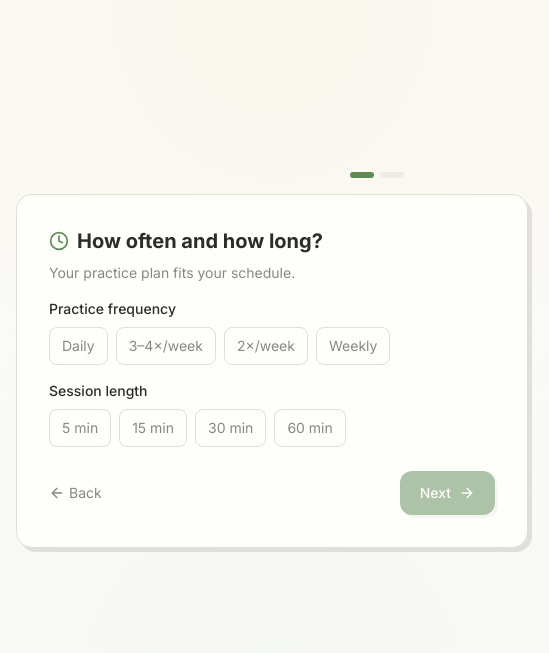
Test: EnhancedOnboarding skill assessment navigation › Stop and go back from the pitch assessment reaches the interval assessment
The image size is (549, 653).
Earlier steps of the test are not shown.
Click the button "Daily": (78, 346) [49, 327, 108, 365]
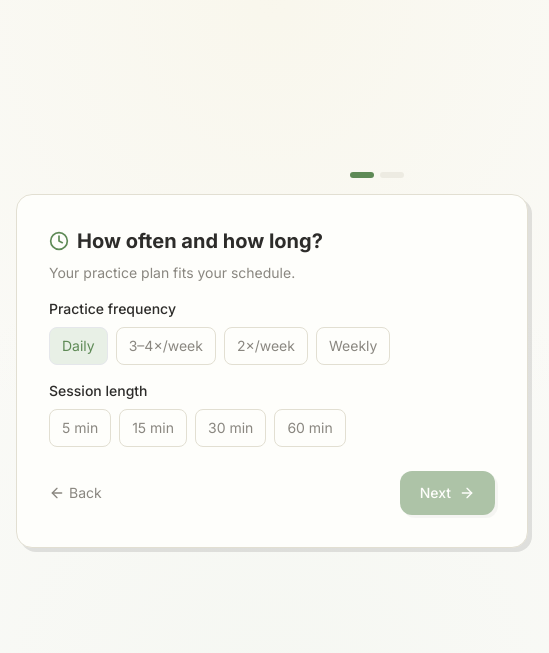
Click the button "15 min": (153, 428) [119, 409, 187, 447]
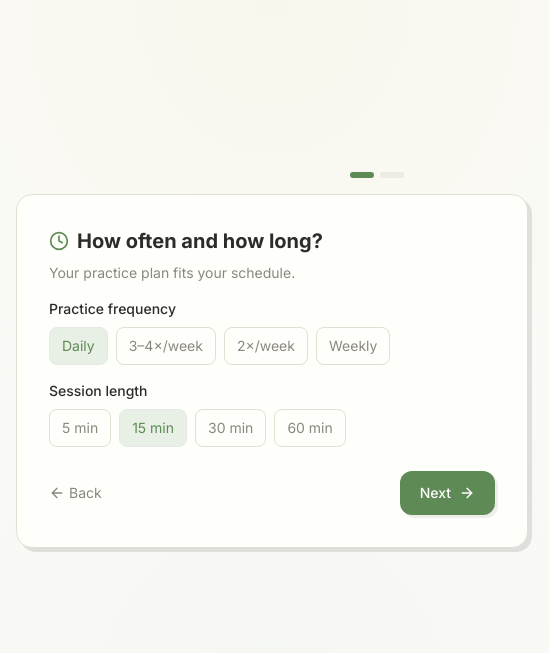
Click the button "Next": (447, 493) [400, 471, 495, 515]
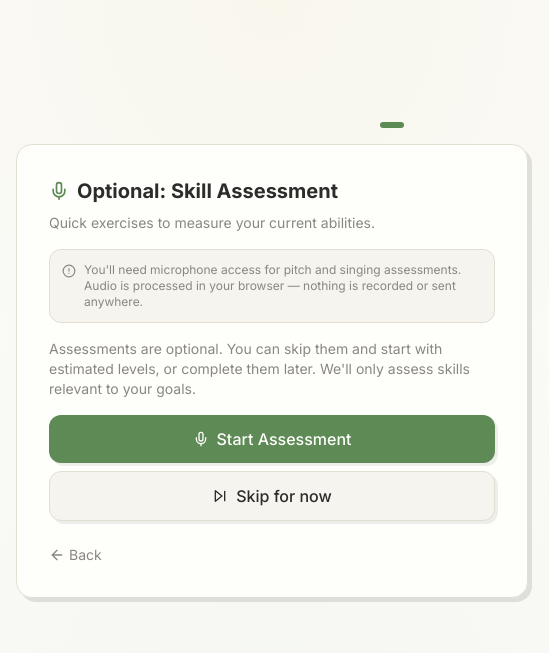
Now the heading "Optional: Skill Assessment" is shown, box [77, 177, 338, 205]
Click the button "Start Assessment": (272, 439) [49, 415, 495, 463]
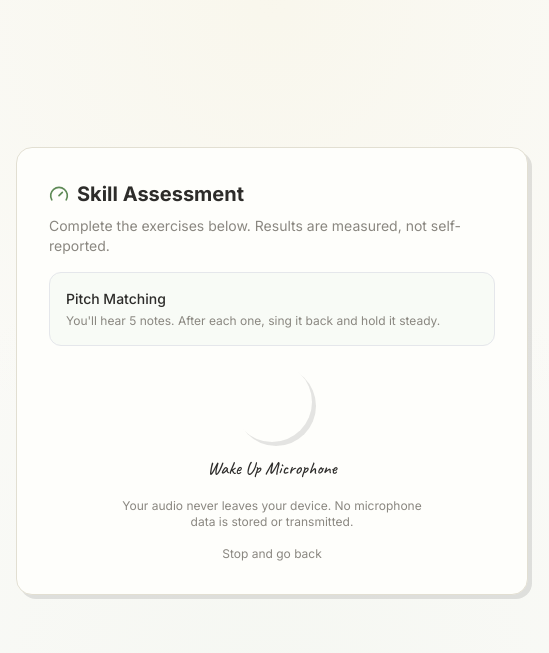
Click the button "Stop and go back": (272, 554) [222, 546, 322, 562]
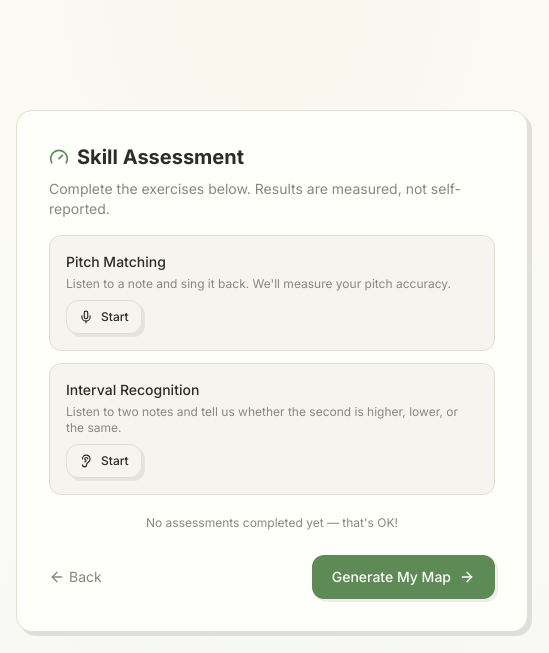
Click the button "Start" below "Interval Recognition": (104, 461) [66, 444, 142, 478]
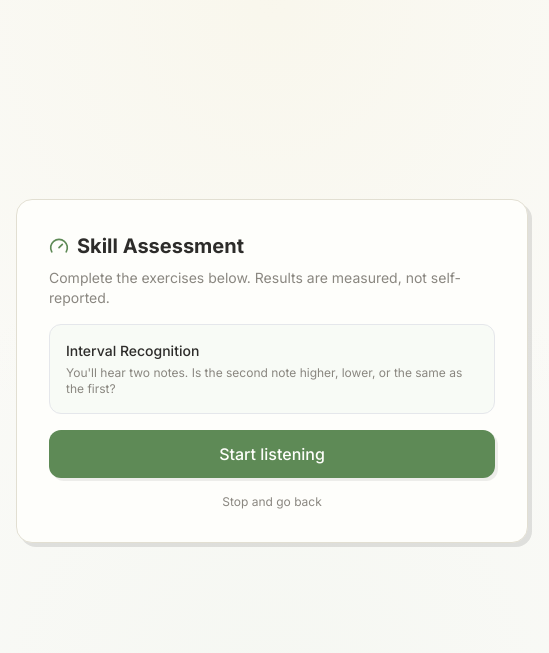
Now the text "Interval Recognition" is shown, box [66, 342, 199, 359]
Now the button "Start listening" is shown, box [49, 430, 495, 478]
